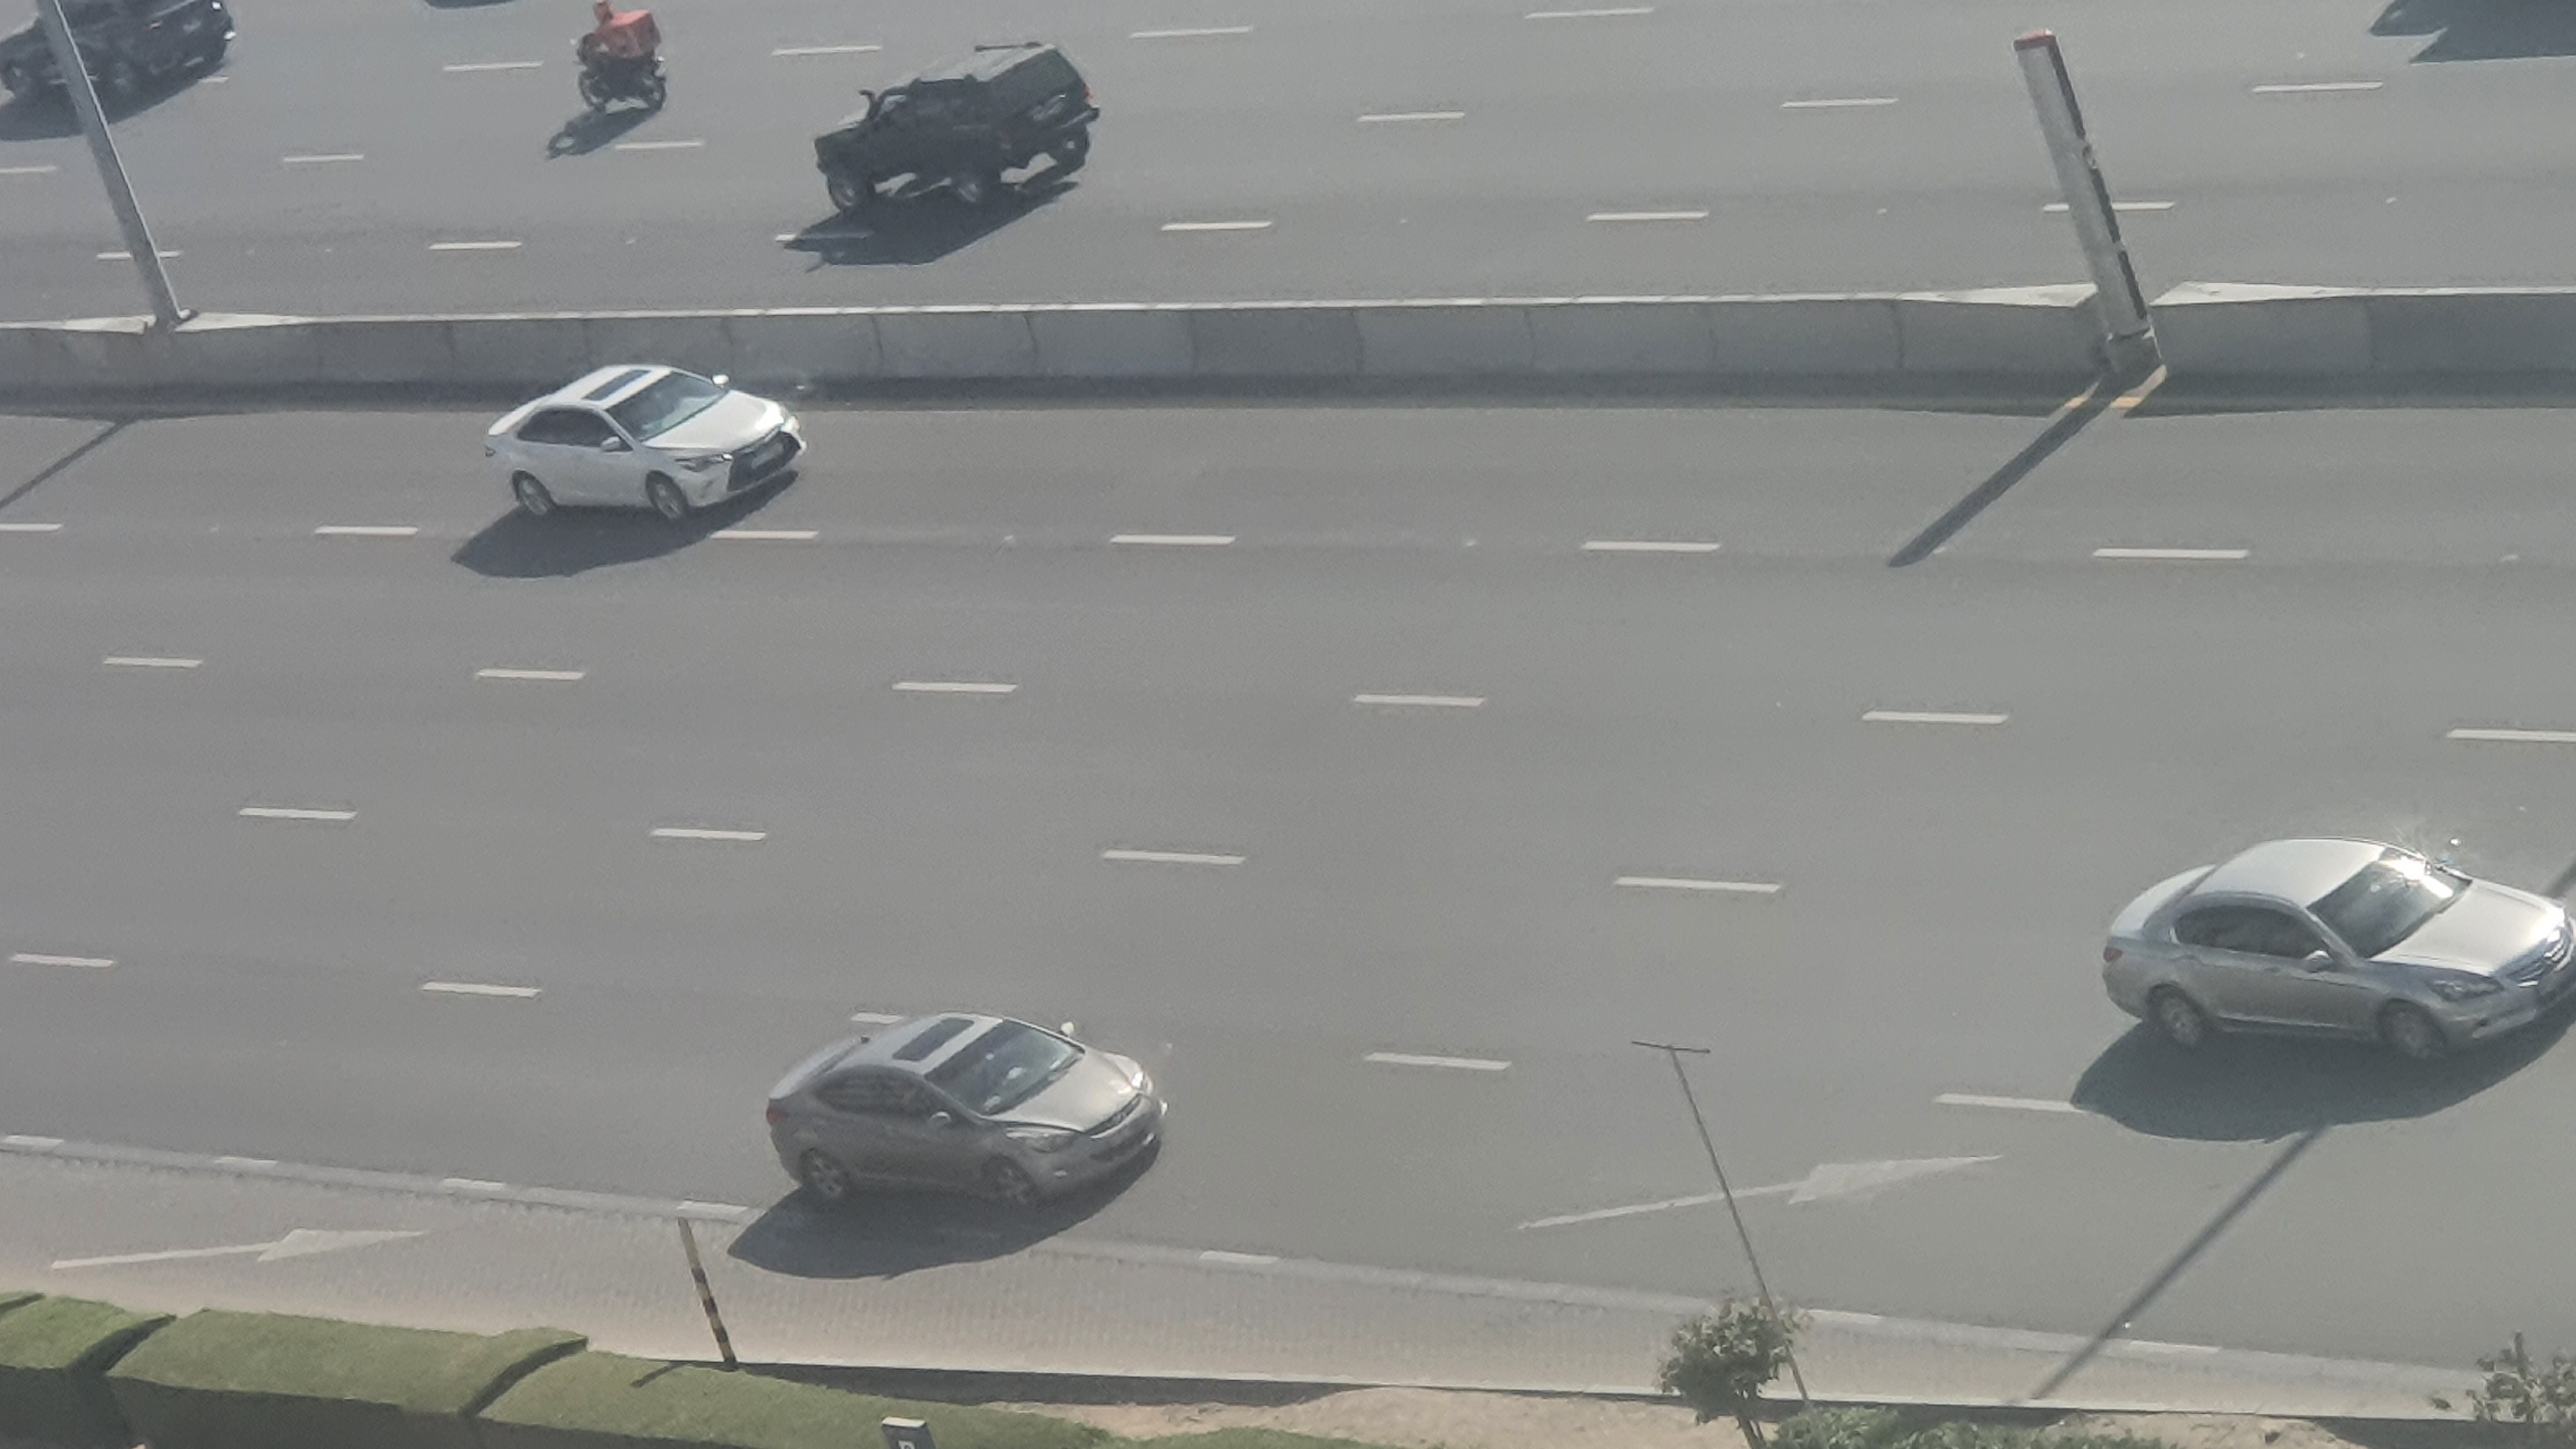NotSunroof: (2091, 828, 2576, 1077)
Sunroof: (741, 1007, 1171, 1212), (471, 354, 821, 525)
